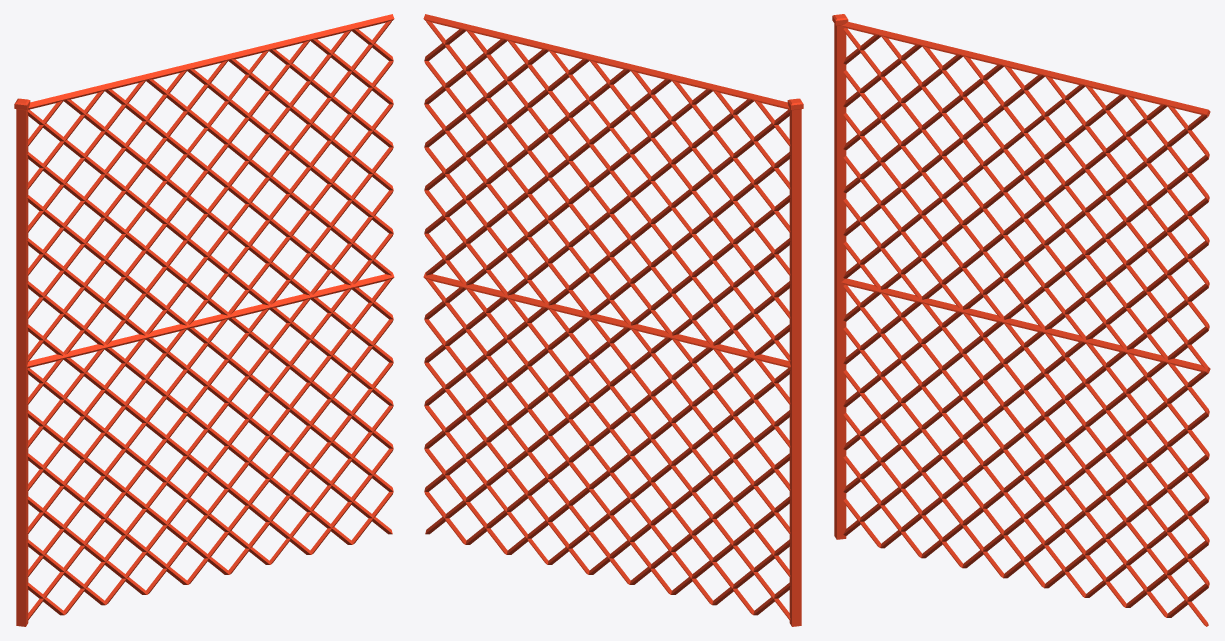
File: SM_Fence_Chainlink_Tall_3m_City.fbx
3 renders of one model, left to right at view 1: azimuth 30°, elevation 25°; view 2: azimuth 150°, elevation 25°; view 3: azimuth 330°, elevation 25°, orthographic.
Parts seen in each view (by area): view 1: SM_Fence_Chainlink_Tall_3m_City; view 2: SM_Fence_Chainlink_Tall_3m_City; view 3: SM_Fence_Chainlink_Tall_3m_City.
Part boxes in pixels (x1,y1,x2,y2): SM_Fence_Chainlink_Tall_3m_City: (14,14,394,626); SM_Fence_Chainlink_Tall_3m_City: (423,14,803,626); SM_Fence_Chainlink_Tall_3m_City: (832,14,1210,626).
Bounding box in the file's own units: 3.06 × 4.05 × 0.1295.
